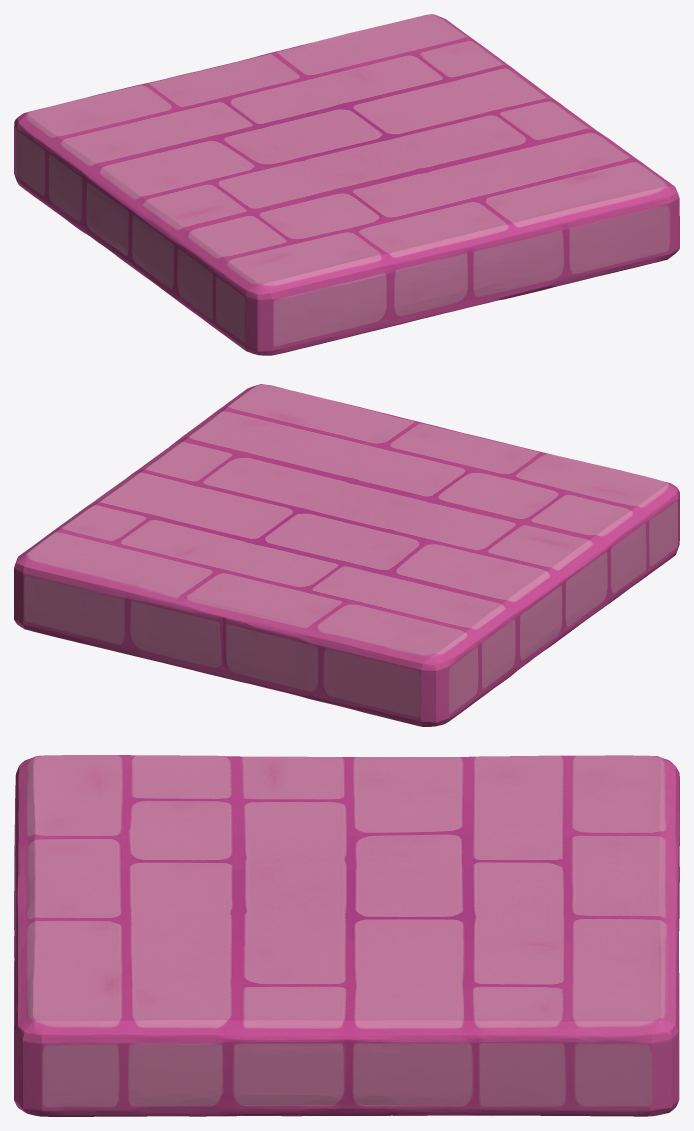
3 views of the same model, one above another, from view 1: azimuth 30°, elevation 25°; view 2: azimuth 150°, elevation 25°; view 3: azimuth 270°, elevation 25° (orthographic). The views are drawn at different scales.
Visible parts, largest first — view 1: world; view 2: world; view 3: world.
Boxes of the visible parts, <box> form: world: <box>14,14,679,355</box>; world: <box>14,384,679,726</box>; world: <box>14,755,679,1116</box>.
Bounding box in the file's own units: 99.97 × 16.33 × 99.95.
1 material, 1 textured.
